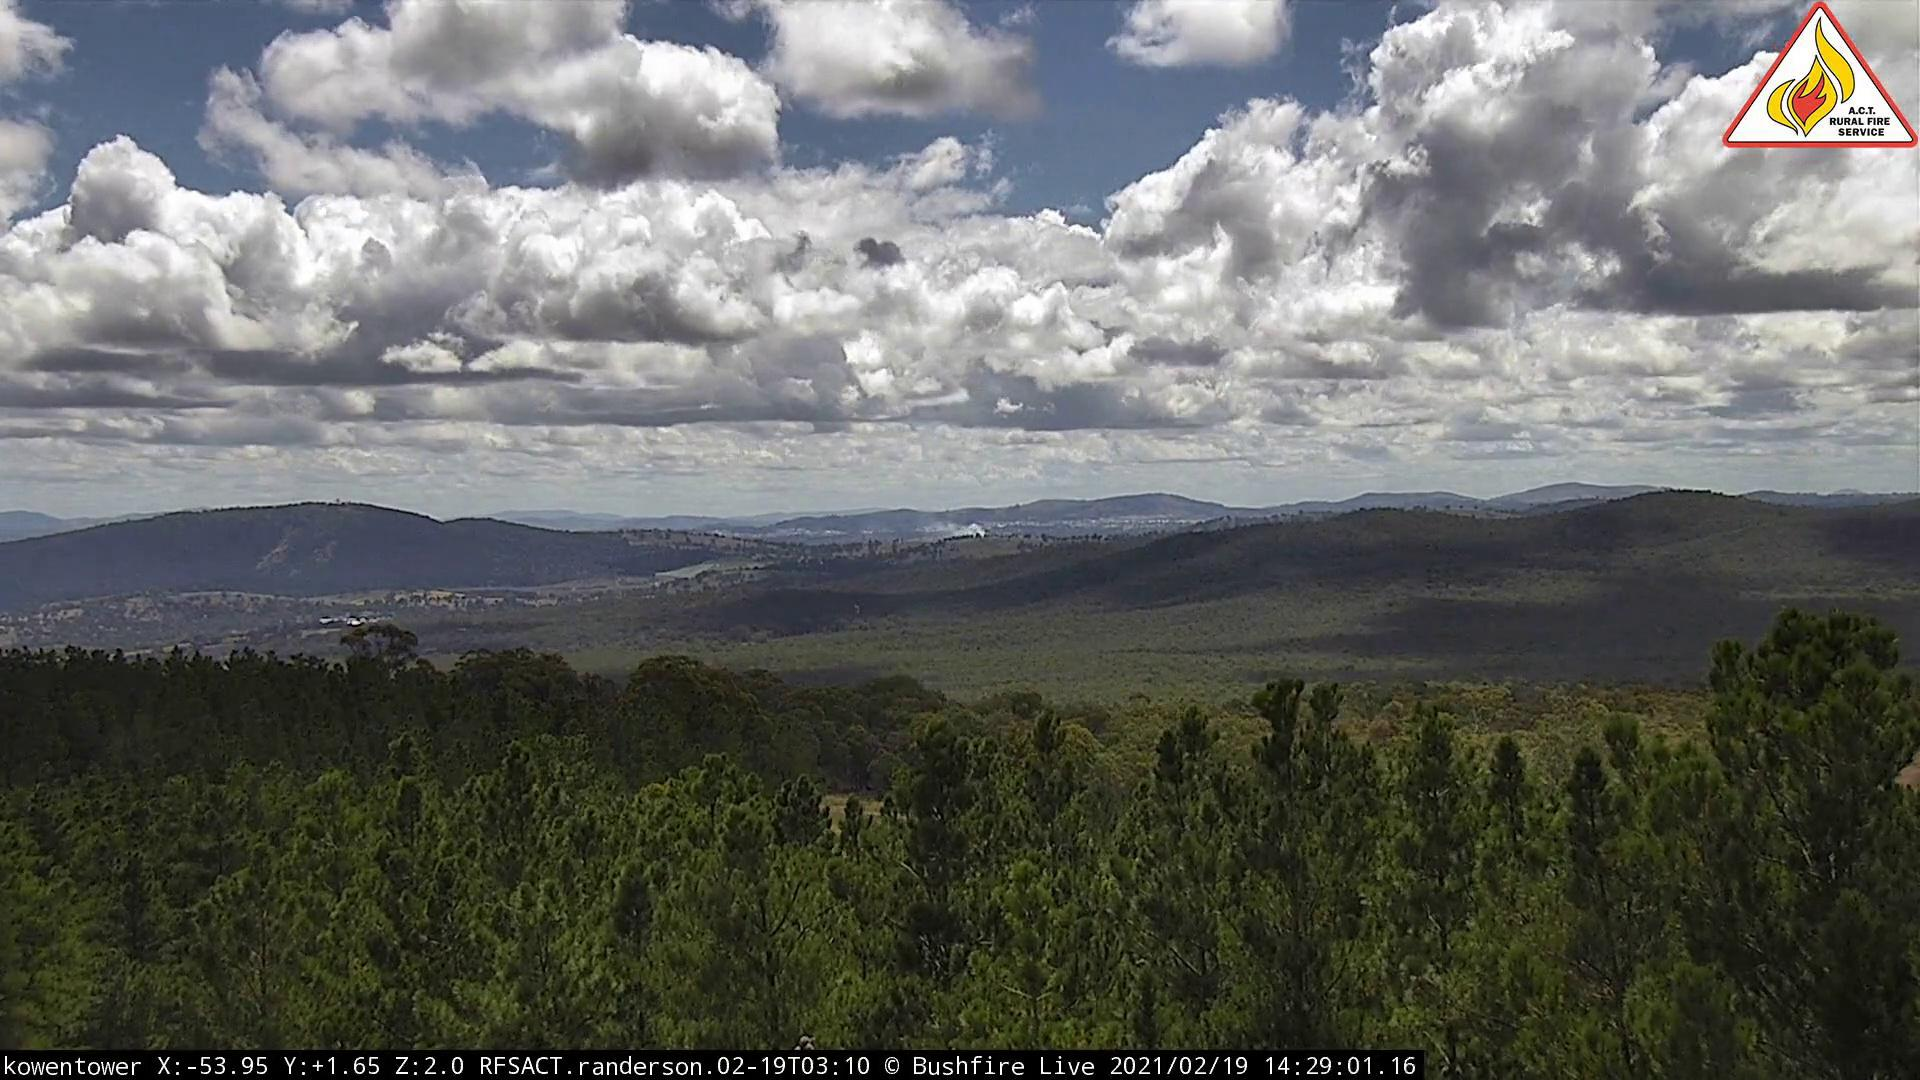Smoke: (891, 484, 1000, 550)
